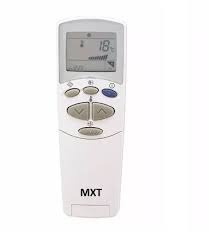remote control: (57, 21, 129, 217)
